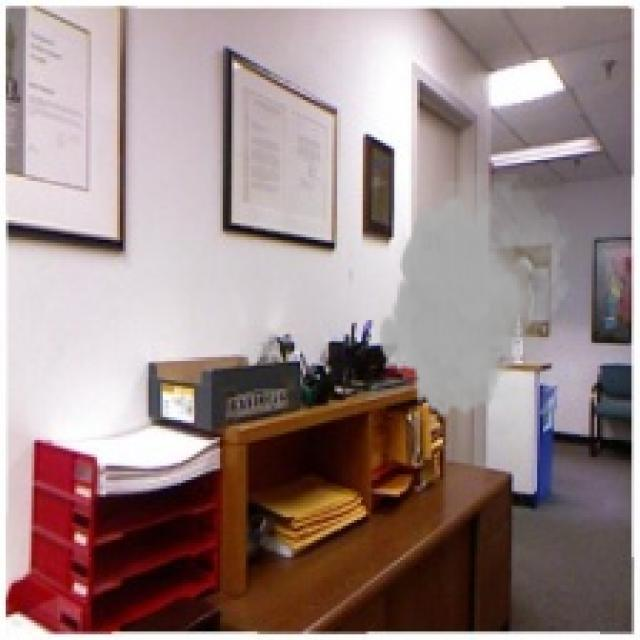Smoke: (377, 174, 577, 423)
